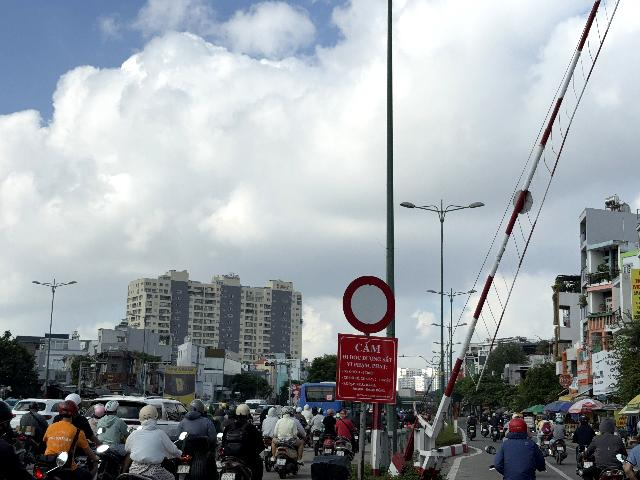duong-cam: (343, 276, 395, 333)
